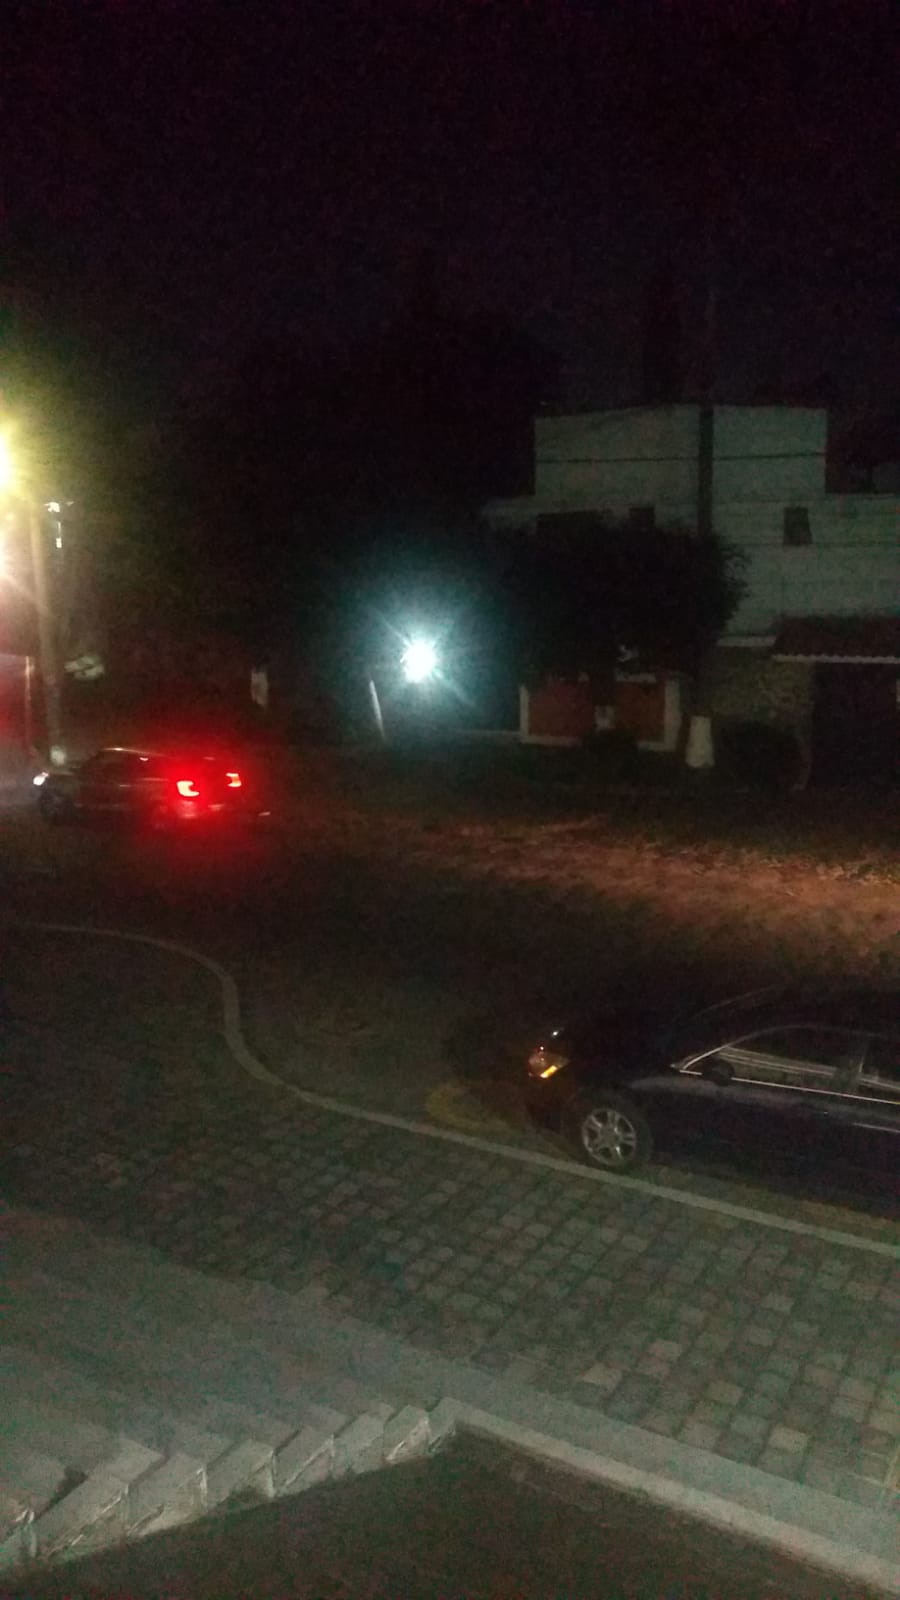Auto: (516, 990, 900, 1202), (25, 738, 242, 829)
